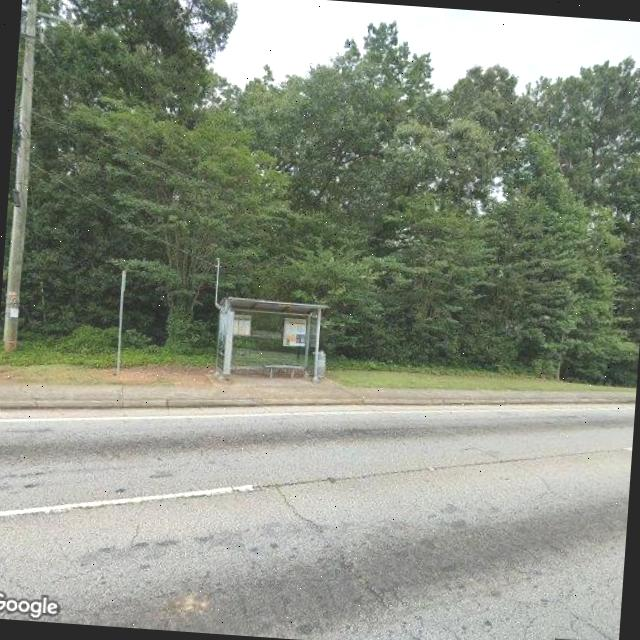seating: (262, 362, 306, 382)
shelter: (211, 294, 331, 390)
trash_can: (312, 351, 326, 380)
